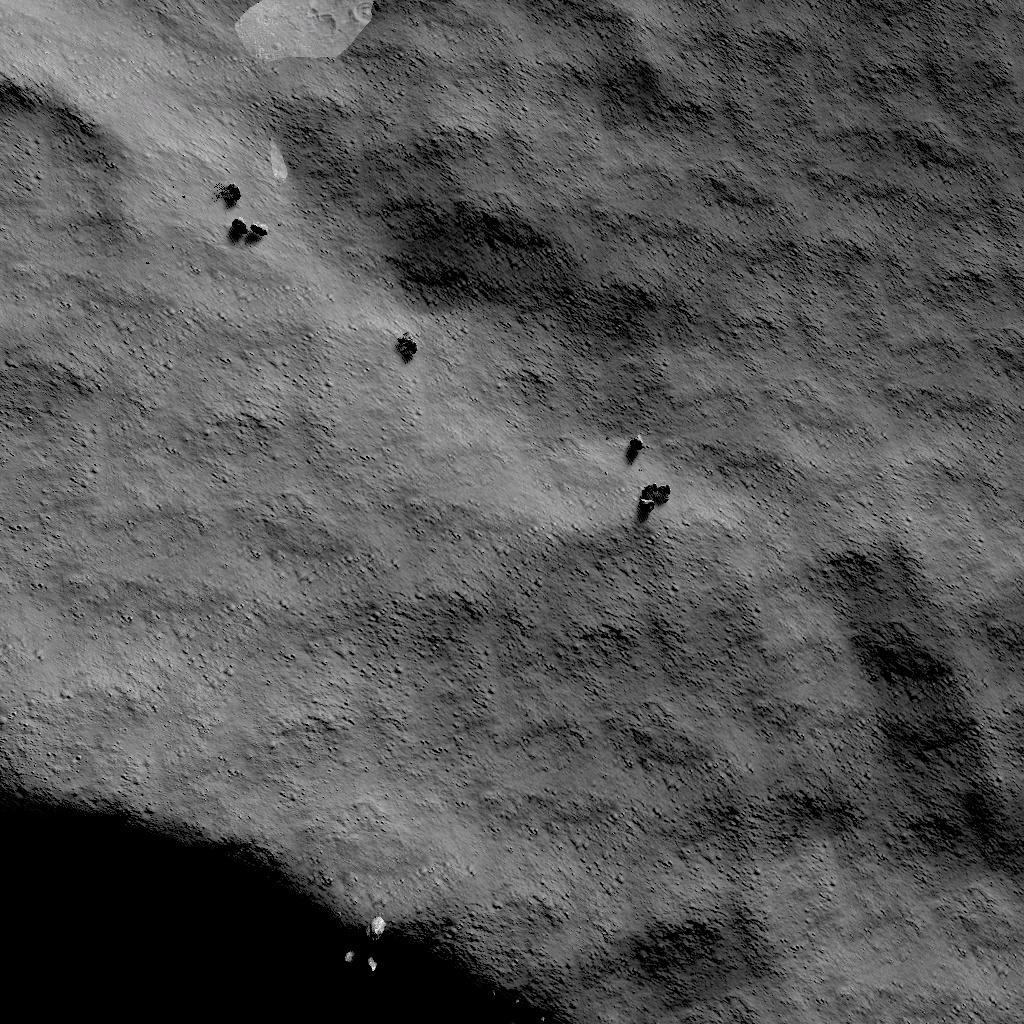Boulders: (239, 0, 395, 70)
Crater: (0, 712, 599, 1024), (0, 62, 155, 404)
Plan surface: (459, 0, 1024, 401), (691, 420, 1024, 1024), (1, 420, 607, 692)
